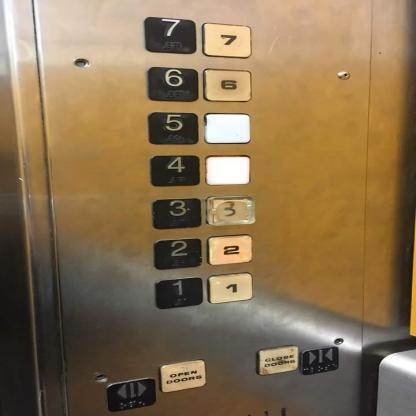1: (152, 275, 204, 310), (206, 271, 254, 305)
2: (152, 237, 202, 270), (206, 233, 252, 266)
3: (150, 196, 202, 230), (204, 194, 256, 226)
4: (148, 154, 200, 188)
5: (146, 111, 199, 146)
6: (146, 65, 199, 103), (202, 66, 252, 102)
7: (143, 14, 196, 55), (200, 22, 252, 58)
close: (300, 345, 339, 375)
empty: (204, 112, 252, 144), (204, 156, 252, 184)
open: (104, 375, 157, 413)
text: (158, 358, 206, 392), (254, 343, 300, 376)
